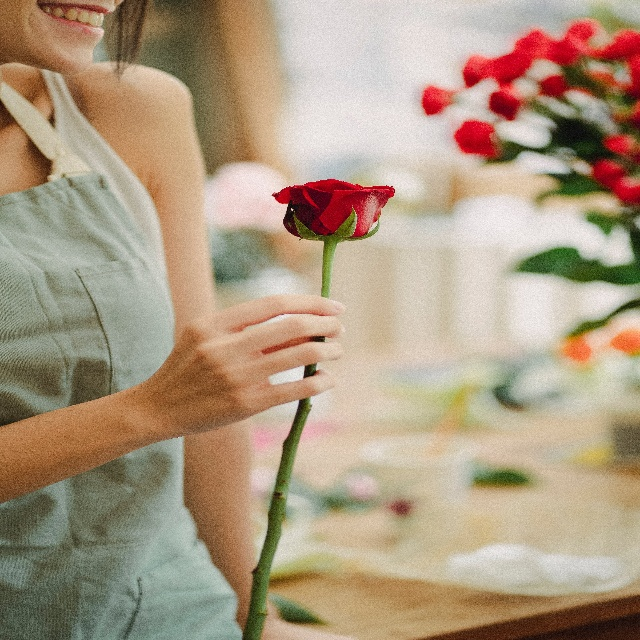Sin_guantes: (148, 292, 345, 439)
